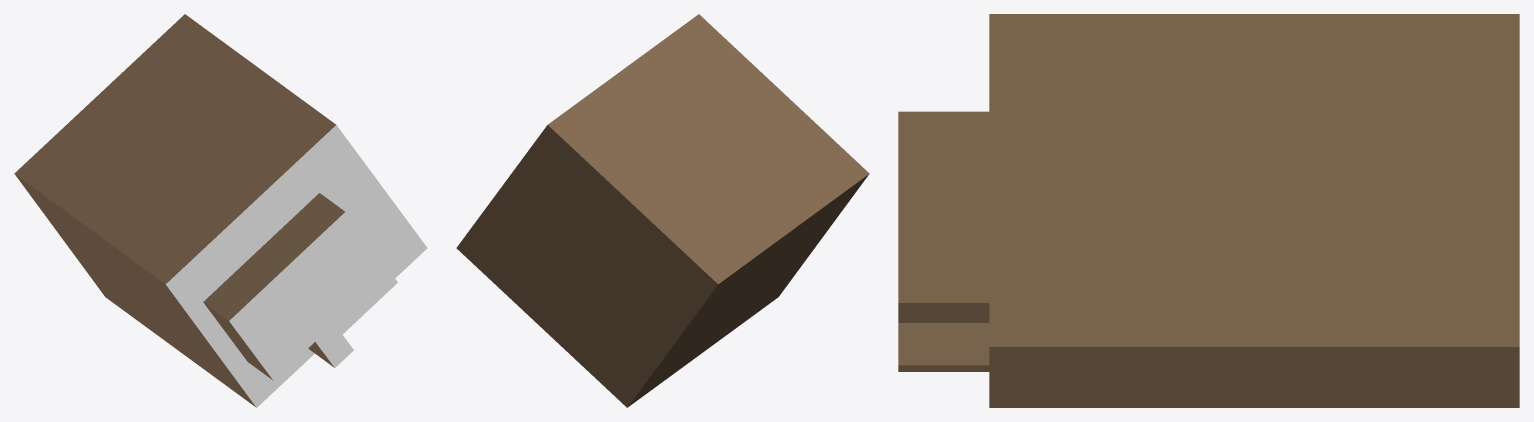
3 views of the same model, side by side, from view 1: azimuth 30°, elevation 25°; view 2: azimuth 150°, elevation 25°; view 3: azimuth 270°, elevation 25° (orthographic). The views are drawn at different scales.
Visible parts, largest first — view 1: City_1884446; view 2: City_1884446; view 3: City_1884446.
Part boxes in pixels (bbox=[...]): City_1884446: bbox=[14, 14, 427, 407]; City_1884446: bbox=[456, 14, 869, 407]; City_1884446: bbox=[898, 14, 1519, 407].
Bounding box in the file's own units: 986 × 948 × 1155.
